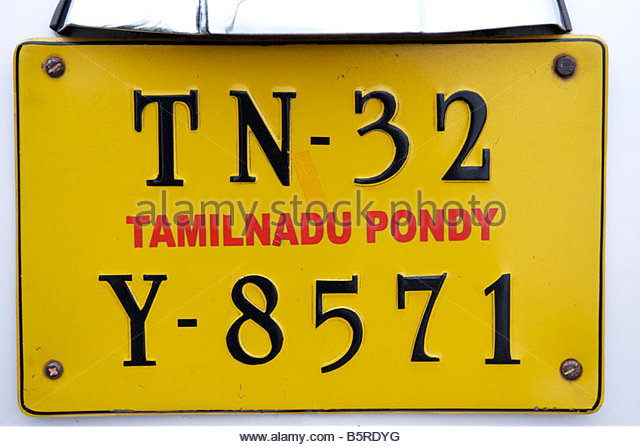T: (125, 83, 214, 199)
